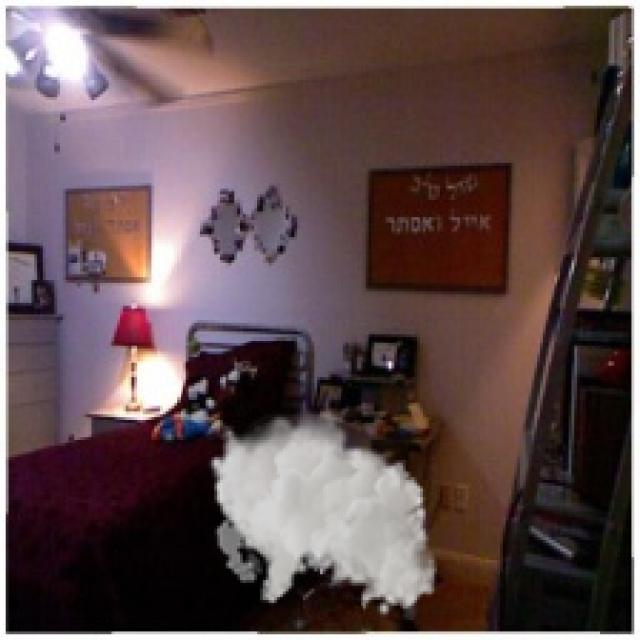Smoke: (209, 406, 437, 618)
